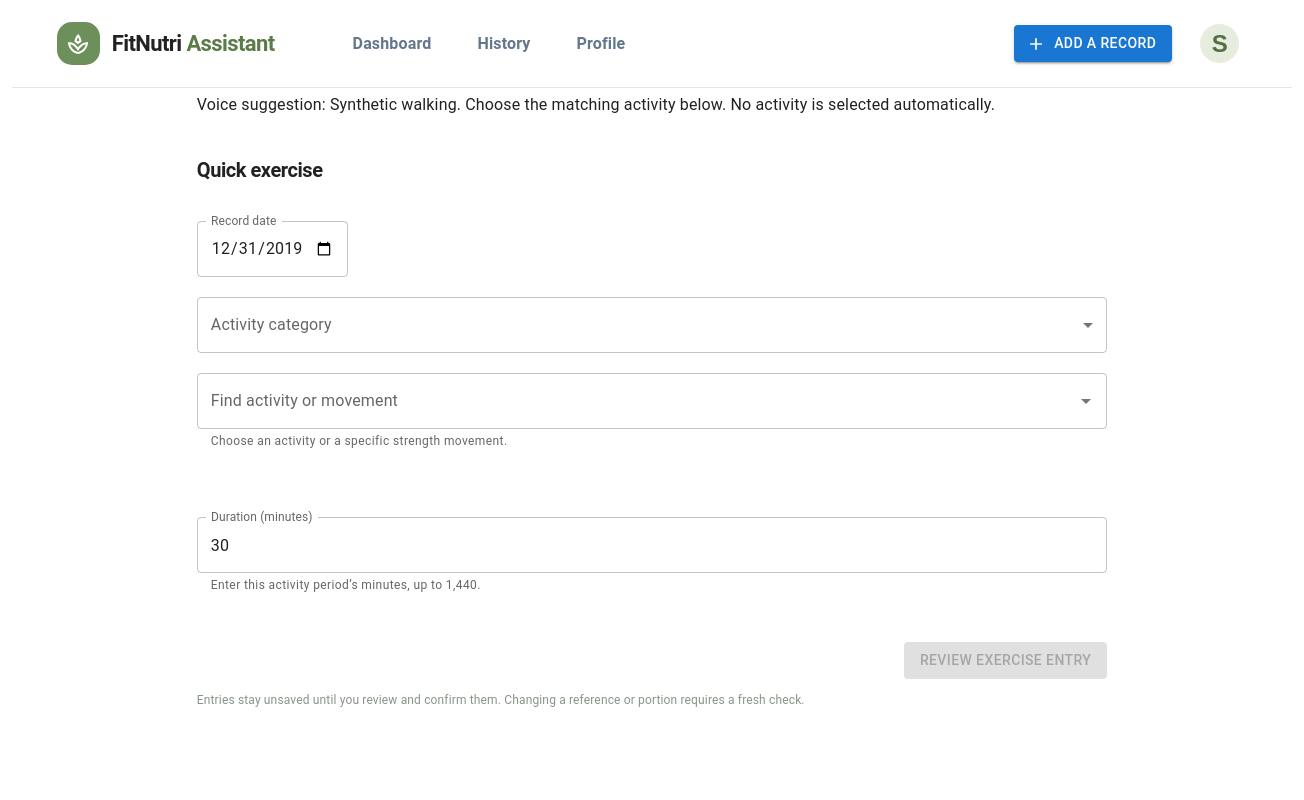
voice exercise produces one unselected Quick period and accepts only an explicit product option before V2 confirmation
The width and height of the screenshot is (1304, 800).
(page scrolled)
Expected: the heading "Quick exercise" is shown, [197,158,322,182]
Press the mouse on the dropdown labelled "Find activity or movement" at (637, 400), box [206,382,1068,420]
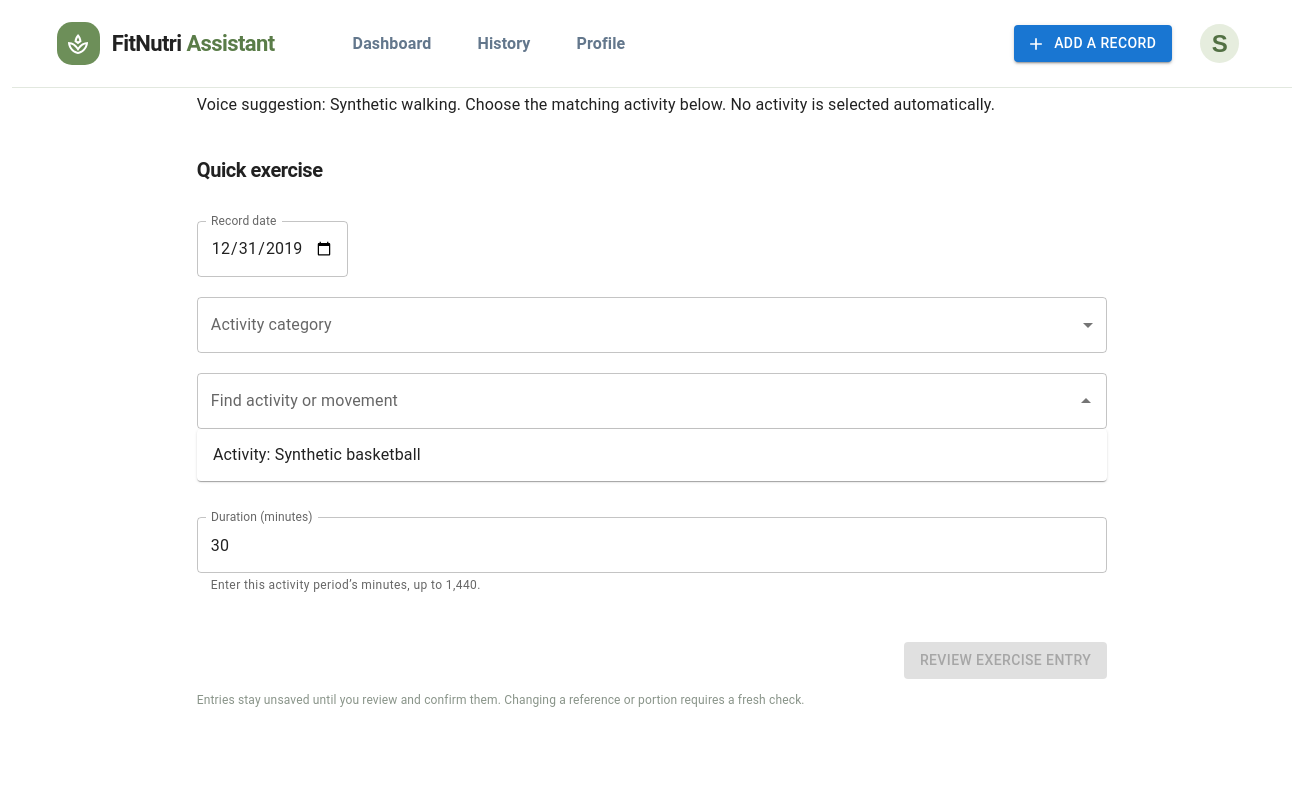
Click the option "Activity: Synthetic basketball" at (317, 454), box [213,445,421,464]
(page scrolled)
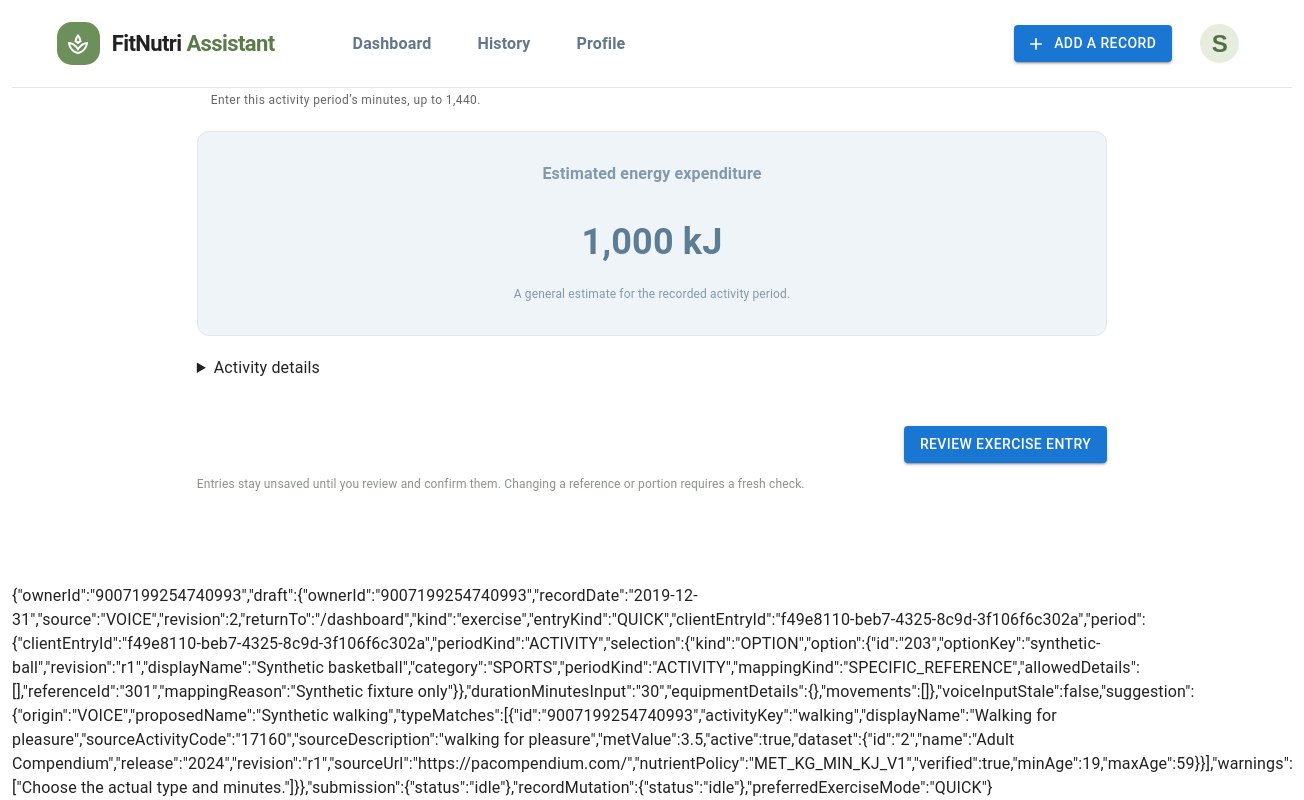
Result: the button "Review exercise entry" is enabled
Click the button "Review exercise entry" at (1006, 445), box [904,426,1107,463]
(page scrolled)
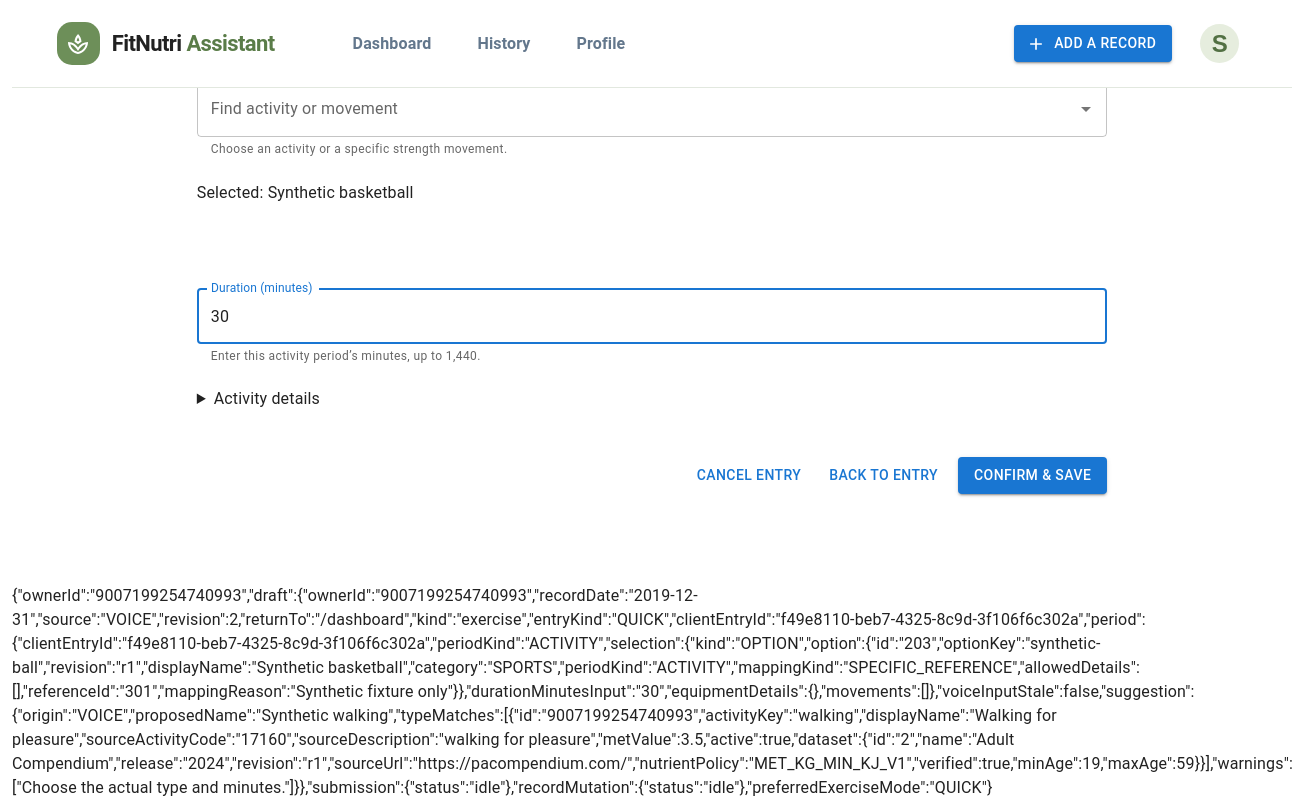
Result: the button "Confirm & save" is enabled
Click the button "Confirm & save" at (1033, 475), box [958,457,1107,494]
(page scrolled)
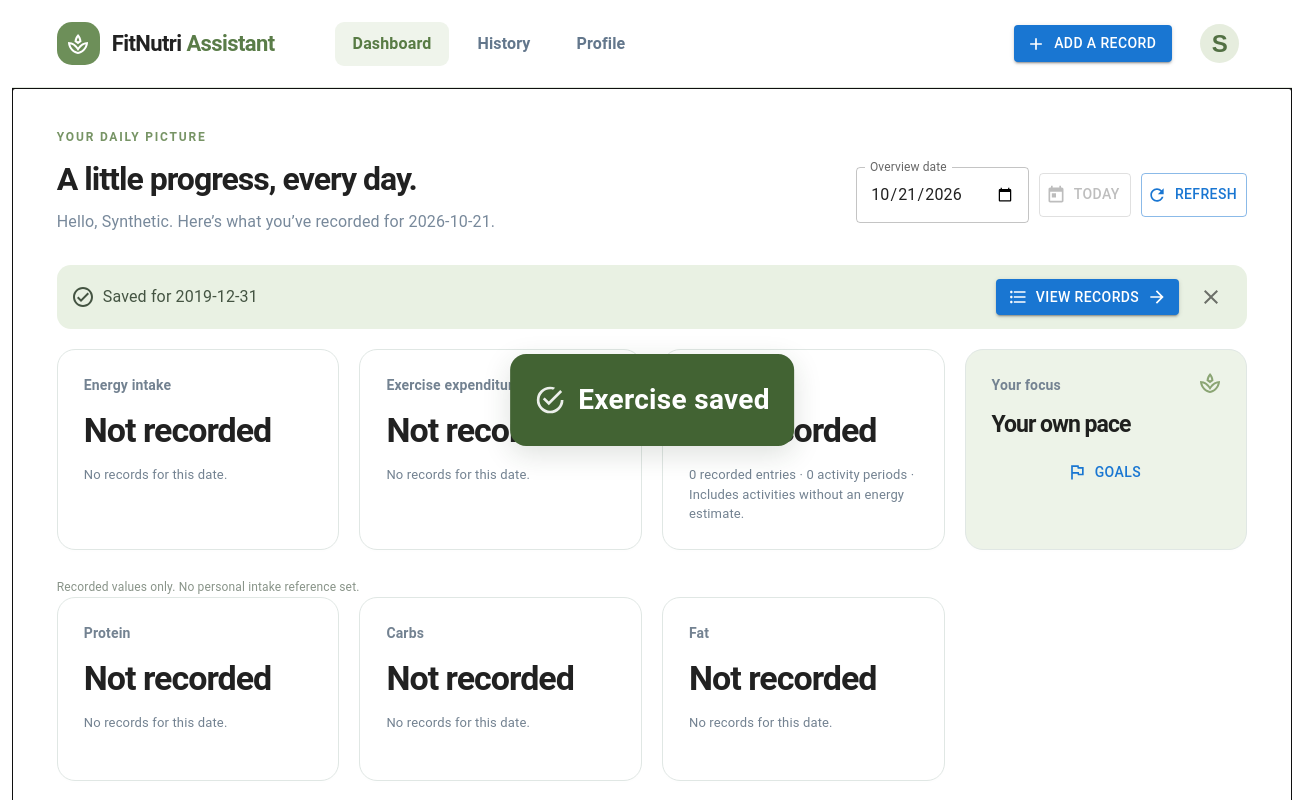
Result: the heading "A little progress, every day." is shown at [57,160,417,198]
